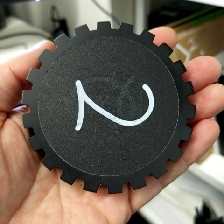gear: (20, 19, 198, 195)
